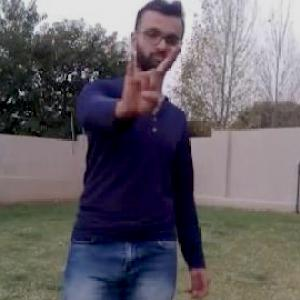takeoff-hand: (119, 41, 183, 123)
